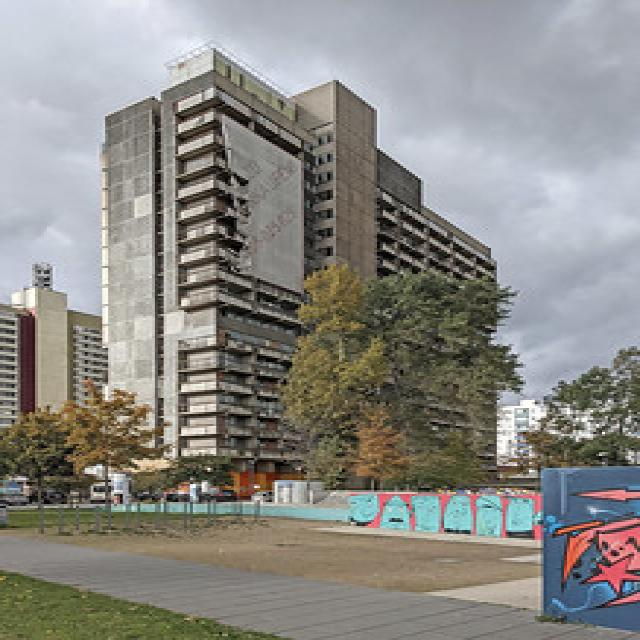building: (80, 36, 507, 496)
